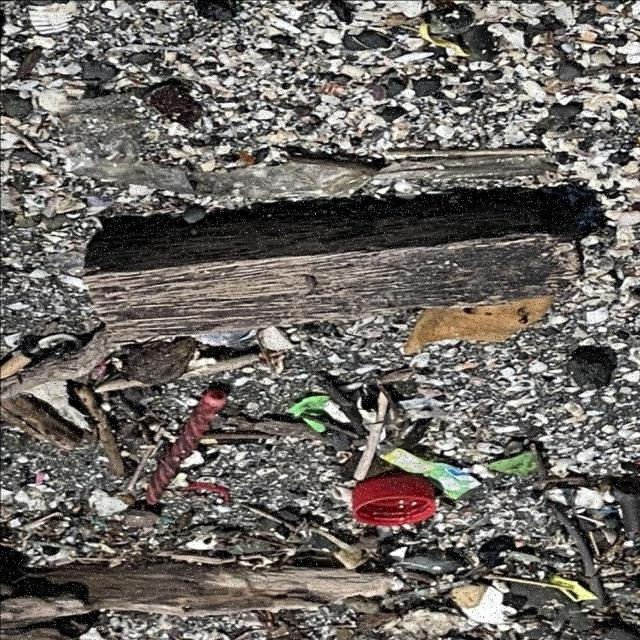plastic_waste: (354, 474, 439, 527)
wood_waste: (81, 186, 586, 340)
